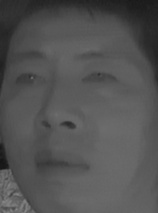eye: (80, 65, 118, 89), (13, 69, 47, 91)
mouth: (33, 142, 89, 183)
